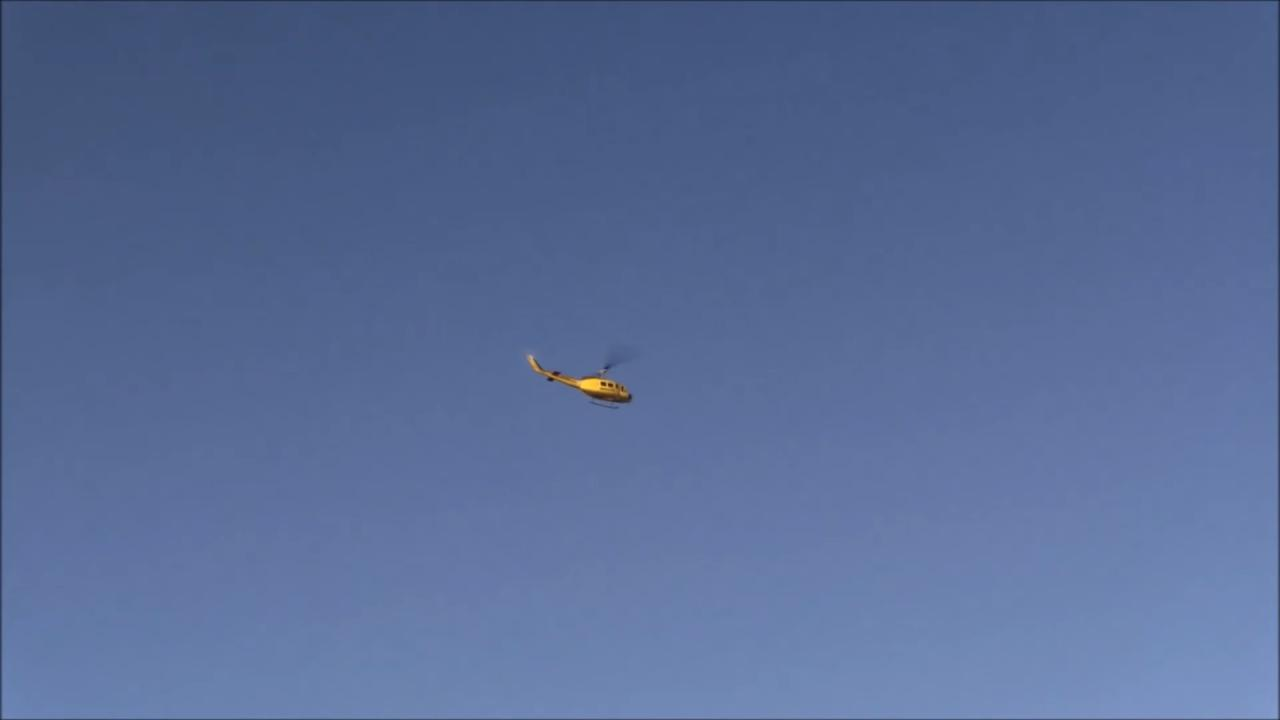Helicopter: (512, 341, 643, 418)
